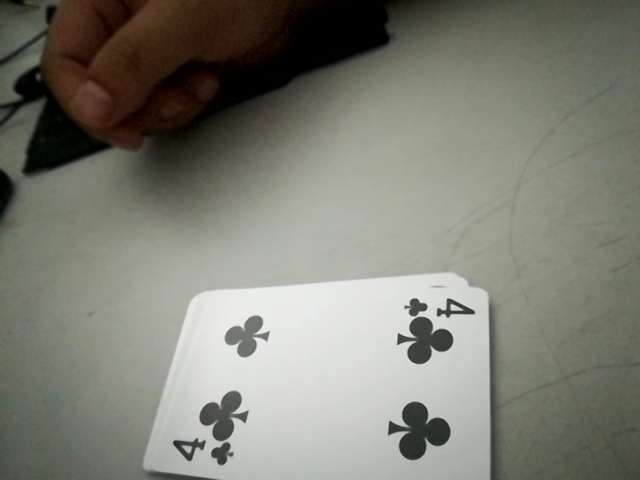mh 4: (159, 434, 239, 472), (405, 289, 482, 324)
